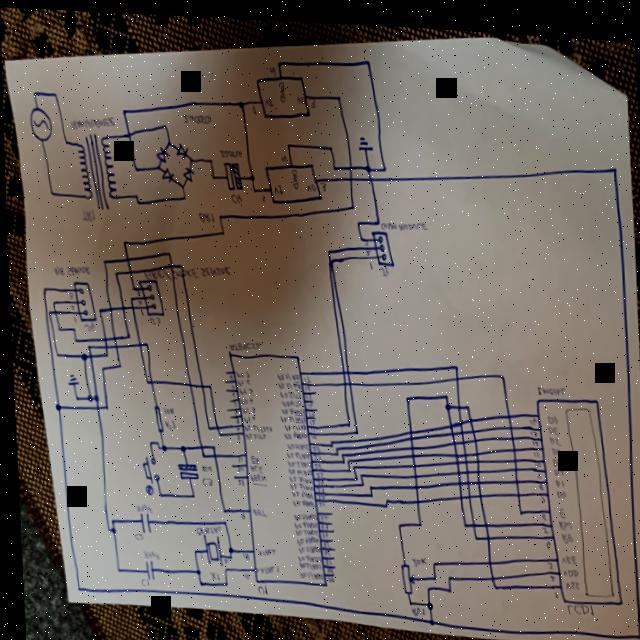capacitor: (221, 157, 241, 187), (173, 459, 195, 478), (135, 509, 147, 530), (140, 557, 150, 577)
crossover: (465, 513, 473, 522), (460, 472, 468, 480), (116, 301, 123, 310), (452, 472, 459, 481), (472, 484, 479, 493), (454, 412, 461, 421), (444, 414, 451, 423), (452, 396, 459, 405), (451, 368, 458, 377), (461, 485, 468, 493), (104, 303, 111, 311), (409, 477, 416, 485), (453, 487, 460, 495), (471, 471, 478, 479), (470, 460, 477, 468), (460, 461, 467, 469), (451, 462, 458, 470), (463, 409, 470, 417), (456, 431, 463, 439), (478, 514, 485, 522), (480, 527, 487, 535), (481, 551, 488, 559), (484, 567, 491, 575), (408, 466, 415, 474), (407, 455, 414, 463), (345, 169, 351, 178), (196, 378, 202, 387), (502, 404, 508, 413), (410, 491, 416, 499), (504, 416, 510, 424), (506, 427, 512, 435), (366, 169, 372, 177), (455, 422, 461, 430), (467, 420, 473, 428), (445, 423, 451, 431), (507, 438, 513, 446), (510, 470, 516, 478), (511, 483, 517, 491), (100, 342, 106, 349), (124, 129, 130, 136), (470, 443, 476, 450), (470, 451, 477, 457), (468, 430, 474, 437), (448, 433, 454, 440), (406, 446, 412, 453), (405, 438, 411, 445), (405, 429, 411, 436), (404, 422, 410, 429), (166, 259, 172, 266), (111, 340, 116, 348), (184, 379, 190, 385), (458, 445, 464, 451), (449, 445, 455, 451), (450, 453, 456, 459), (459, 452, 465, 458), (508, 450, 514, 456), (509, 458, 515, 464), (404, 423, 410, 429), (109, 333, 114, 340), (99, 334, 104, 341), (85, 350, 90, 357), (92, 403, 97, 410), (134, 339, 139, 345), (208, 449, 213, 455), (127, 302, 132, 308), (125, 266, 130, 272), (122, 254, 127, 260), (211, 421, 216, 427), (338, 364, 342, 371), (196, 440, 200, 446), (146, 376, 150, 382), (51, 308, 55, 314), (344, 375, 348, 381), (339, 376, 343, 382), (342, 364, 346, 370)
diode: (174, 139, 186, 158), (154, 143, 167, 160), (180, 163, 192, 180), (159, 163, 171, 180)
ground: (356, 129, 372, 146), (63, 371, 76, 385)
junction: (607, 155, 617, 167), (420, 593, 429, 604), (495, 365, 503, 374), (236, 96, 243, 106), (175, 441, 182, 450), (77, 351, 84, 360), (441, 579, 448, 588), (283, 137, 290, 145), (325, 139, 332, 147), (362, 52, 369, 60), (426, 554, 433, 562), (110, 564, 117, 572), (487, 576, 494, 584), (247, 169, 253, 178), (153, 487, 159, 496), (392, 515, 398, 524), (274, 54, 280, 63), (51, 401, 57, 410), (334, 88, 340, 97), (30, 88, 36, 97), (372, 212, 378, 221), (362, 158, 368, 167), (631, 623, 637, 632), (427, 567, 433, 576), (100, 401, 106, 410), (424, 611, 430, 619), (186, 488, 192, 496), (96, 363, 102, 371), (412, 514, 418, 522), (347, 197, 353, 205), (38, 284, 44, 292), (329, 159, 335, 167), (131, 162, 137, 170), (514, 501, 520, 509), (420, 578, 426, 586), (50, 89, 56, 97), (119, 236, 125, 244), (83, 392, 89, 400), (202, 420, 208, 428), (193, 576, 199, 584), (51, 349, 57, 357), (450, 356, 456, 364), (106, 524, 112, 532), (70, 393, 76, 401), (179, 191, 185, 199), (441, 396, 447, 404), (90, 391, 95, 400), (223, 543, 229, 550), (353, 214, 359, 221), (113, 359, 119, 366), (122, 330, 128, 337), (442, 567, 448, 574), (324, 253, 331, 259), (204, 379, 209, 387), (186, 154, 192, 160), (379, 160, 385, 166), (191, 565, 196, 572), (47, 188, 52, 195), (158, 441, 163, 448), (62, 137, 67, 144), (364, 486, 369, 493), (218, 503, 223, 510), (207, 440, 212, 447), (83, 341, 88, 348), (401, 389, 406, 396), (217, 226, 222, 232), (72, 584, 77, 590), (216, 210, 221, 216), (458, 515, 463, 521), (164, 137, 169, 143), (356, 230, 361, 236), (106, 516, 111, 522), (110, 268, 115, 274), (99, 257, 104, 263), (48, 299, 53, 305), (101, 350, 106, 356), (94, 305, 99, 311), (177, 180, 182, 186), (206, 154, 211, 160), (161, 120, 166, 126), (119, 106, 124, 112), (469, 528, 474, 534), (461, 397, 466, 403), (440, 387, 445, 393), (44, 308, 48, 315), (197, 449, 201, 456), (177, 259, 181, 266), (250, 182, 254, 189), (133, 197, 138, 202), (355, 467, 360, 472), (208, 170, 212, 176), (364, 478, 368, 484), (144, 437, 148, 443), (218, 516, 222, 522), (142, 376, 146, 382), (132, 191, 136, 197), (141, 338, 145, 344), (129, 283, 133, 289), (164, 248, 168, 254), (154, 162, 158, 168), (380, 497, 384, 503), (350, 470, 354, 476), (220, 577, 224, 583), (189, 545, 193, 551), (324, 244, 328, 250), (403, 594, 407, 600), (351, 424, 355, 429), (356, 476, 360, 481), (331, 446, 335, 451), (126, 294, 130, 299), (70, 336, 74, 341), (69, 326, 73, 331), (214, 428, 218, 433), (380, 492, 384, 497), (348, 459, 352, 464), (343, 463, 347, 468), (342, 453, 346, 458), (337, 454, 341, 459), (337, 447, 341, 452), (343, 417, 347, 422), (224, 551, 228, 556), (219, 563, 223, 568), (331, 441, 335, 445), (153, 442, 156, 447), (55, 325, 58, 329), (326, 439, 329, 443), (103, 526, 106, 530), (326, 435, 329, 439), (153, 438, 155, 442)
resistor: (394, 557, 411, 588), (149, 402, 160, 430)
source: (26, 105, 52, 140)
switch: (137, 452, 156, 481)
terminal: (69, 278, 94, 322), (135, 275, 162, 314), (368, 224, 392, 261)
text: (140, 257, 228, 282), (67, 111, 113, 130), (377, 213, 426, 226), (50, 261, 87, 276), (225, 335, 258, 350), (179, 107, 209, 123), (561, 594, 589, 608), (533, 375, 561, 389), (191, 521, 218, 533), (273, 366, 297, 379), (240, 419, 268, 430), (273, 376, 298, 388), (216, 144, 240, 156), (282, 444, 306, 456), (291, 530, 314, 542), (289, 514, 314, 525), (294, 565, 319, 576), (278, 401, 302, 412), (279, 425, 303, 436), (287, 483, 309, 495), (288, 507, 313, 517), (288, 492, 310, 503), (294, 556, 316, 567), (284, 462, 308, 472), (284, 470, 308, 480), (285, 477, 309, 487), (276, 410, 302, 419), (245, 469, 263, 482), (290, 523, 315, 532), (196, 207, 213, 220), (252, 543, 272, 554), (254, 560, 274, 571), (129, 499, 149, 510), (293, 540, 315, 550), (283, 455, 307, 464), (293, 549, 317, 558), (79, 206, 93, 221), (275, 76, 284, 98), (276, 385, 298, 394), (280, 418, 302, 427), (283, 437, 305, 446), (406, 549, 422, 561), (241, 428, 262, 437), (277, 394, 298, 403), (138, 547, 156, 557), (288, 163, 296, 185), (554, 510, 568, 522), (248, 503, 263, 514), (557, 546, 572, 557), (406, 599, 421, 610), (558, 560, 574, 570), (80, 318, 93, 330), (557, 523, 569, 536), (245, 459, 259, 470), (160, 416, 172, 428), (228, 188, 240, 200), (235, 383, 251, 392), (560, 572, 574, 582), (544, 427, 558, 437), (146, 312, 158, 323), (271, 179, 282, 191), (245, 449, 256, 461), (543, 416, 555, 427), (376, 258, 386, 271), (238, 401, 252, 410), (233, 374, 247, 383), (205, 566, 216, 577), (197, 473, 209, 483), (239, 411, 252, 420), (236, 393, 249, 402), (232, 366, 246, 374), (294, 90, 304, 101), (304, 177, 314, 188), (253, 580, 263, 591), (543, 406, 554, 416), (159, 403, 171, 412), (553, 498, 562, 510), (262, 93, 272, 103), (306, 91, 315, 102), (136, 574, 145, 585), (196, 461, 208, 469), (267, 60, 274, 73), (317, 534, 327, 543), (547, 438, 557, 447), (548, 449, 558, 458), (550, 470, 560, 479), (552, 481, 562, 490), (316, 176, 324, 187), (549, 459, 560, 467), (238, 548, 246, 558), (129, 530, 139, 538), (314, 509, 325, 516), (321, 570, 330, 578), (233, 474, 241, 482), (308, 440, 316, 448), (315, 517, 323, 525), (316, 525, 324, 533), (318, 543, 326, 551), (525, 409, 533, 417), (302, 395, 309, 404), (541, 553, 548, 562), (250, 99, 255, 111), (278, 149, 284, 159), (541, 531, 547, 541), (309, 448, 317, 455), (309, 458, 317, 465), (319, 552, 327, 559), (320, 561, 328, 568), (526, 422, 534, 429), (238, 567, 244, 576), (232, 462, 241, 468), (300, 369, 306, 378), (311, 467, 320, 473), (311, 474, 320, 480), (311, 482, 320, 488), (535, 486, 541, 495), (532, 463, 538, 472), (314, 496, 321, 503), (537, 518, 544, 525), (233, 451, 239, 459), (301, 379, 307, 387), (302, 388, 308, 396), (305, 404, 311, 412), (313, 489, 321, 495), (548, 582, 554, 590), (534, 475, 540, 483), (530, 454, 538, 460), (529, 442, 535, 450), (528, 432, 536, 438), (136, 306, 141, 315), (236, 507, 241, 516), (537, 504, 542, 513), (366, 254, 370, 265), (228, 396, 234, 403), (305, 414, 312, 420), (363, 244, 369, 251), (545, 566, 551, 573), (134, 297, 140, 303), (219, 554, 225, 560), (307, 429, 313, 435), (133, 287, 138, 294), (231, 413, 236, 420), (70, 313, 74, 321), (66, 290, 70, 298), (259, 190, 263, 198), (195, 549, 199, 557), (306, 422, 311, 428), (227, 387, 231, 394), (232, 423, 237, 428), (67, 303, 71, 309), (233, 430, 237, 436), (231, 405, 235, 411), (227, 379, 231, 385), (225, 370, 229, 376), (361, 234, 365, 240)
transformer: (73, 129, 117, 209)
